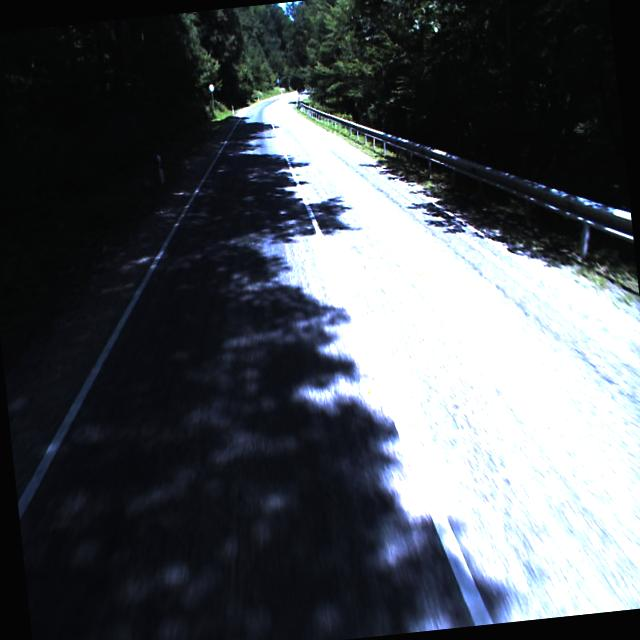road: (16, 90, 640, 640)
